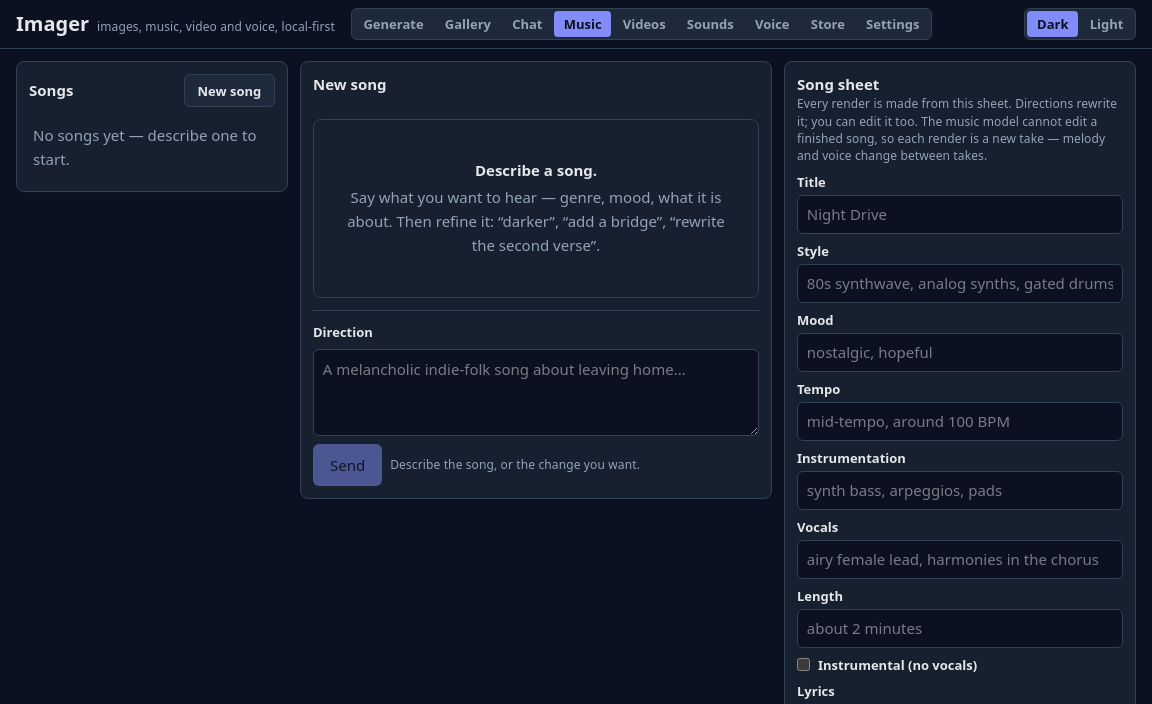
Test: a failed render keeps the NEW sheet and shows the failure; Render retries it
The image size is (1152, 704).
Type "synthwave night drive" into the text box labelled "Direction" at coordinates (536, 393), box [313, 349, 759, 436]
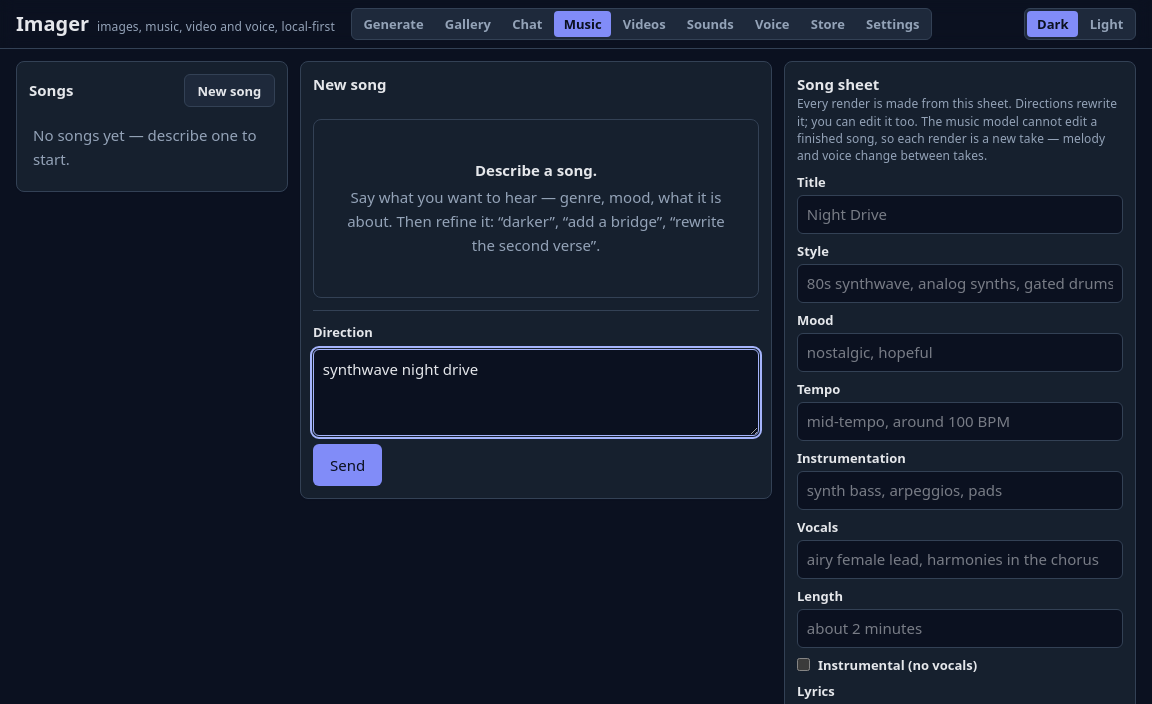
Click the button "Send" at coordinates (348, 465), box [313, 444, 382, 486]
(page scrolled)
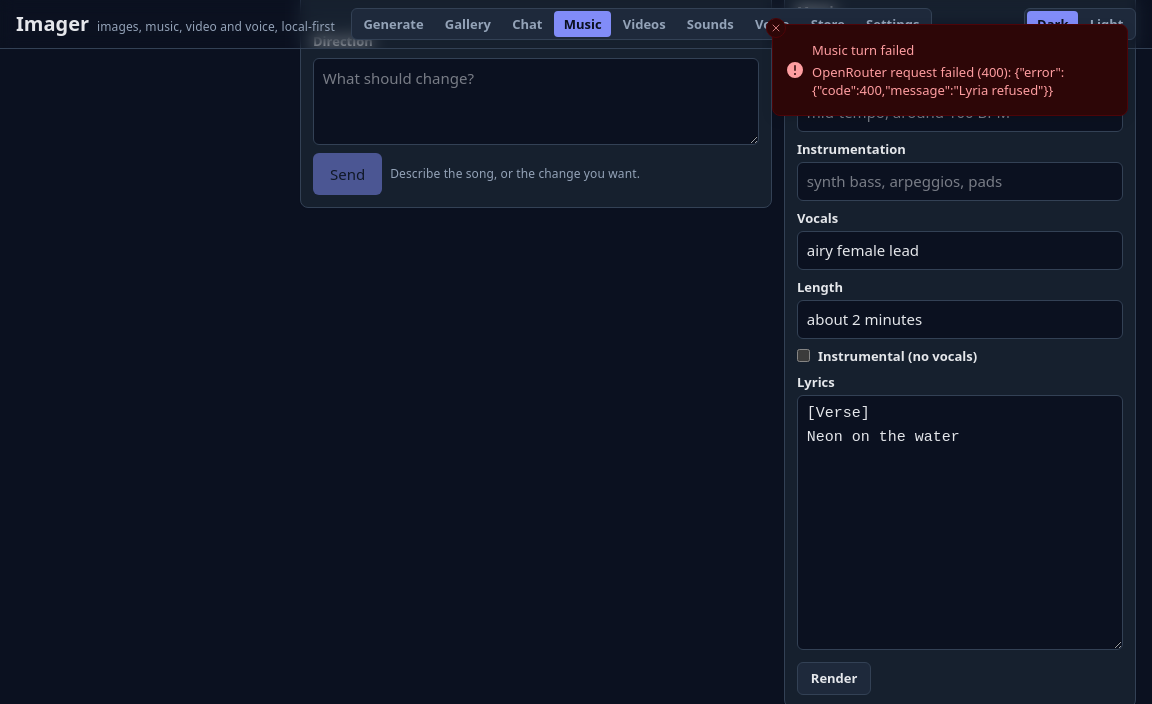
Expected: the text "Lyria refused" is shown, [812, 62, 1064, 99]
Click the button "Render" at coordinates (834, 678), box [797, 662, 871, 695]
(page scrolled)
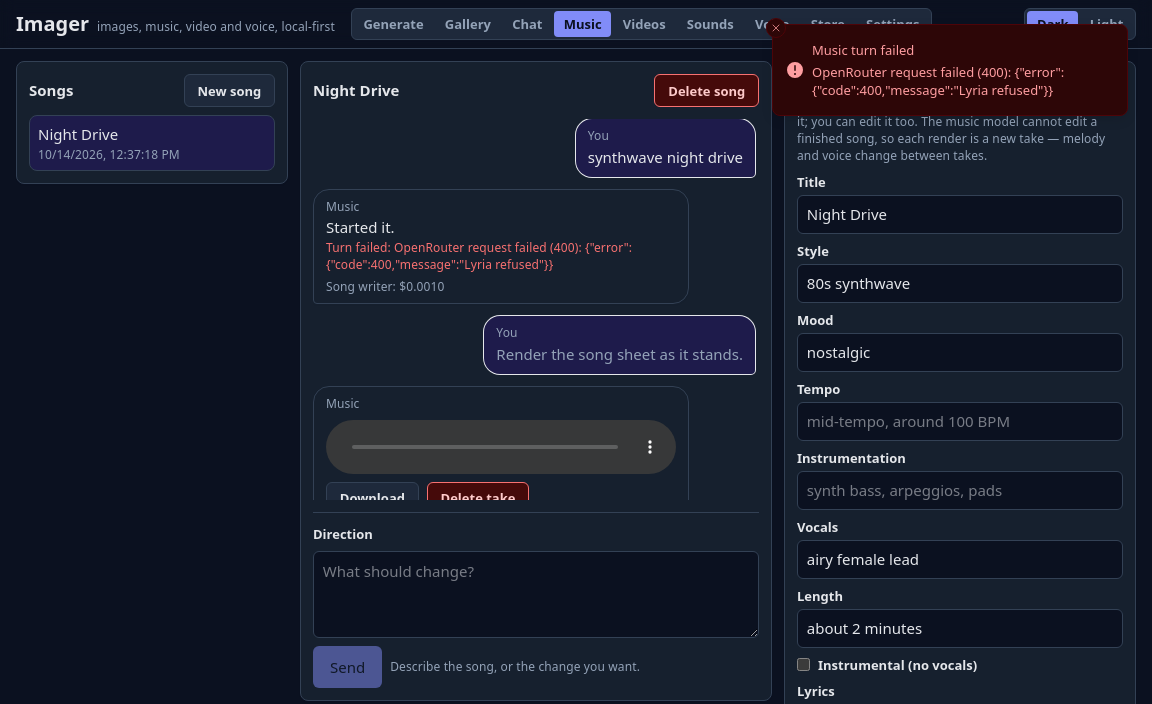
Expected: the element named "Play Night Drive" is shown, [326, 420, 676, 474]
